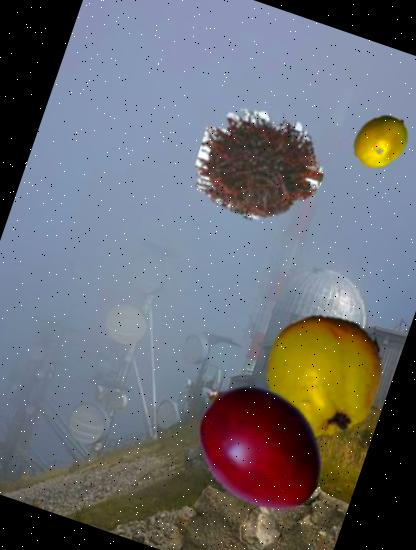Maracuja: (343, 103, 416, 178)
Quince: (249, 296, 405, 452)
Rambutan: (180, 86, 342, 246)
Tamarillo: (163, 352, 351, 540)
